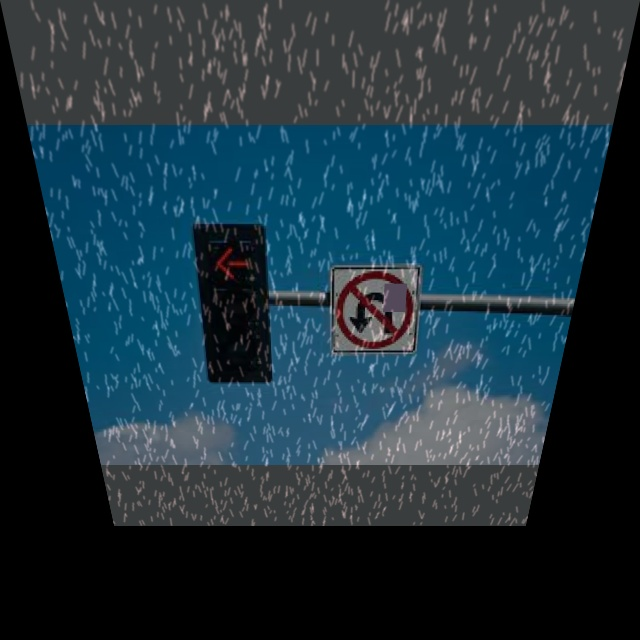U_Turn_Prohibited: (333, 268, 421, 351)
